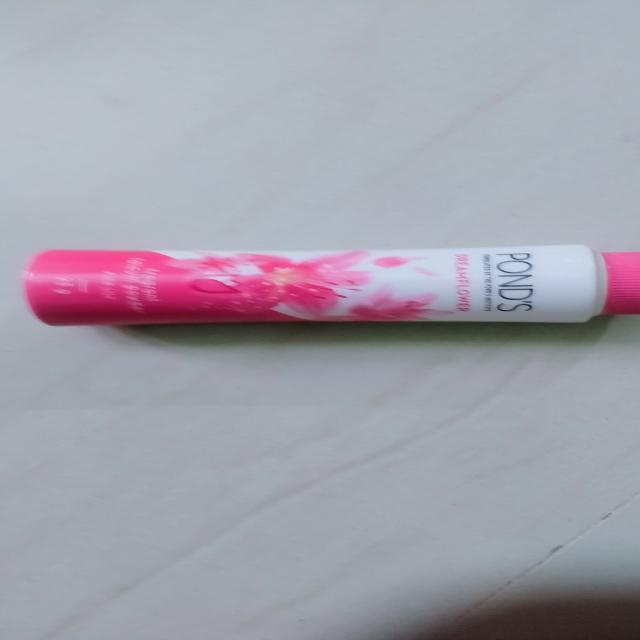powder: (21, 245, 640, 333)
